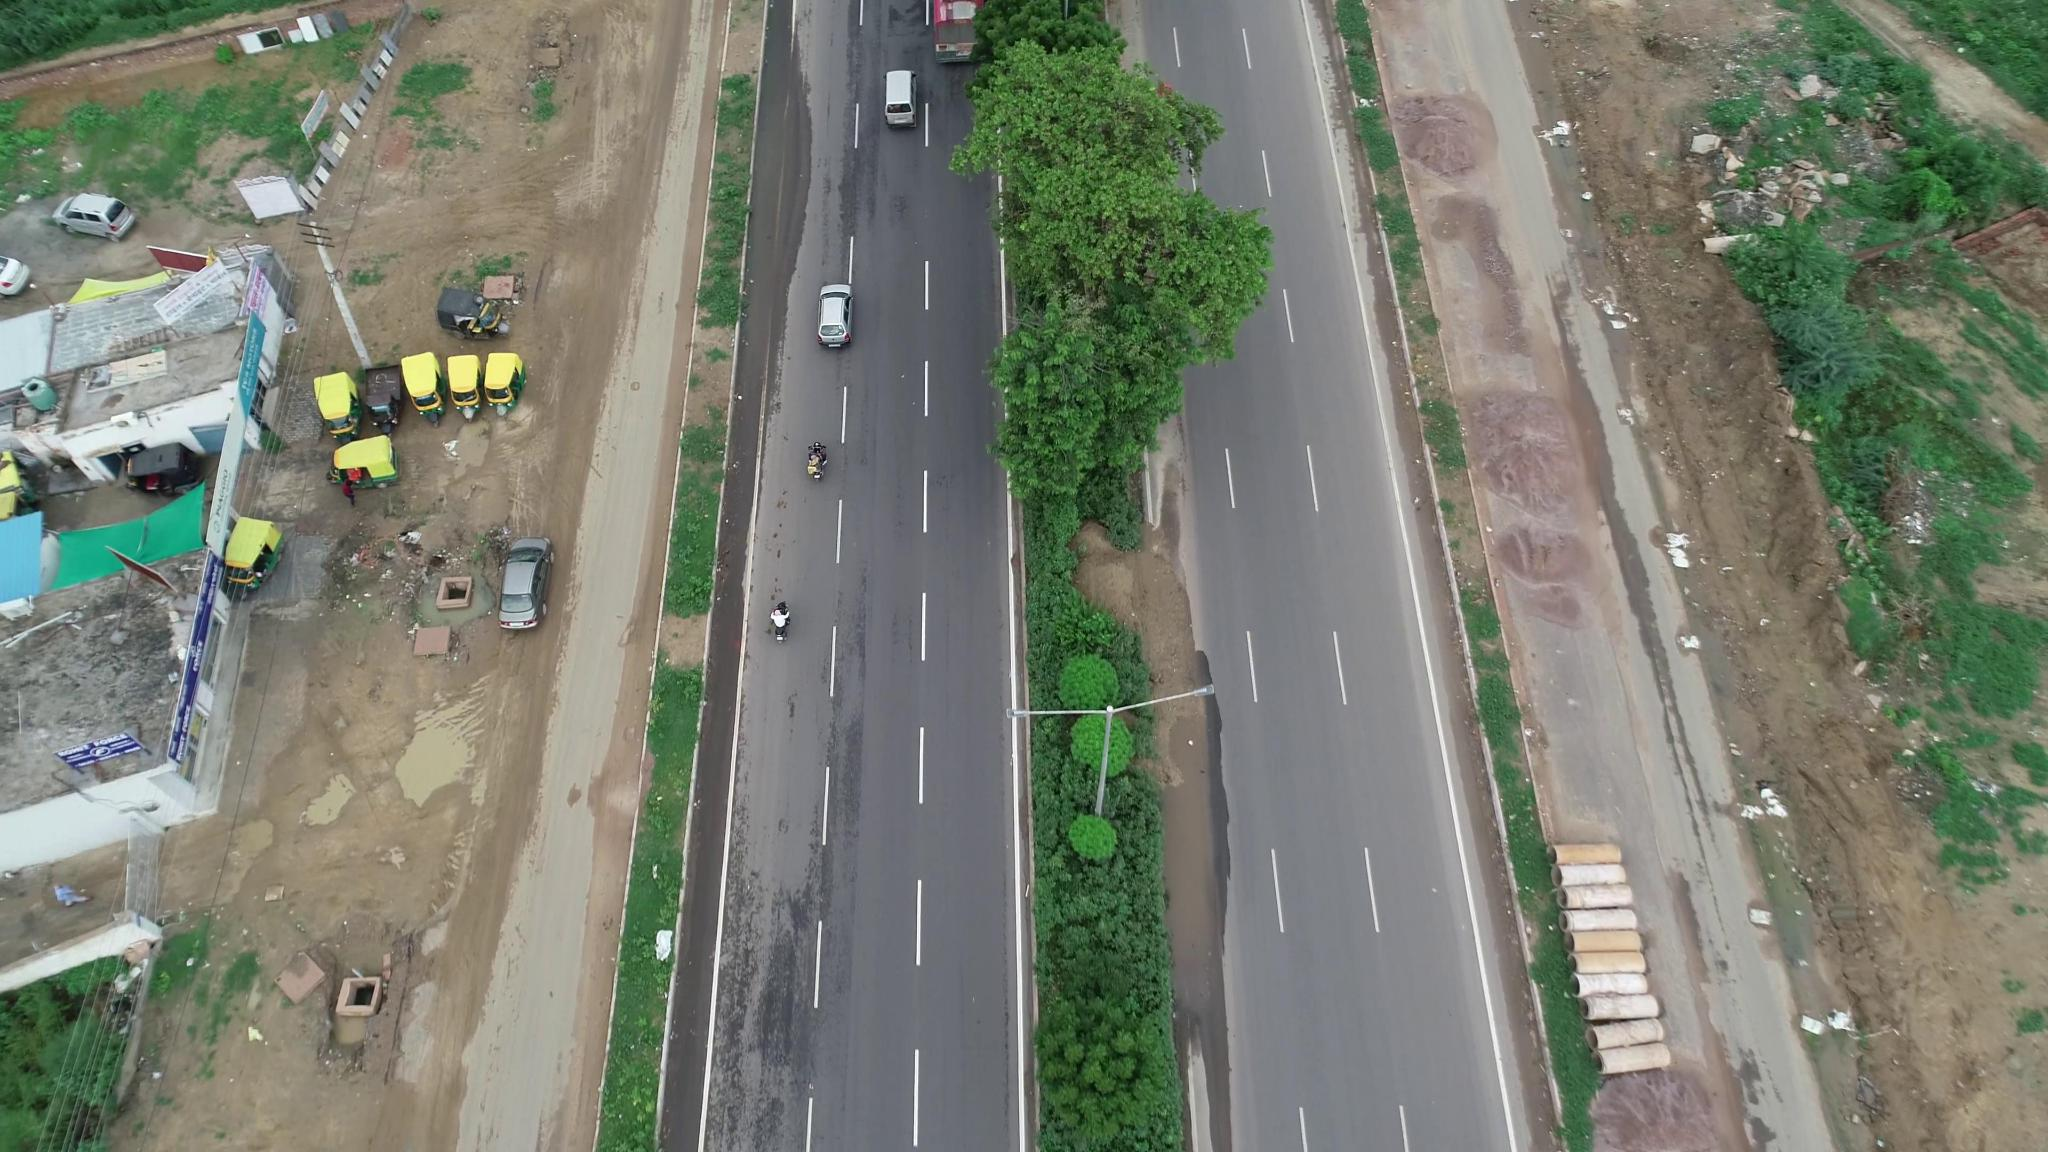Muddy_road: (1149, 535, 1239, 1030)
